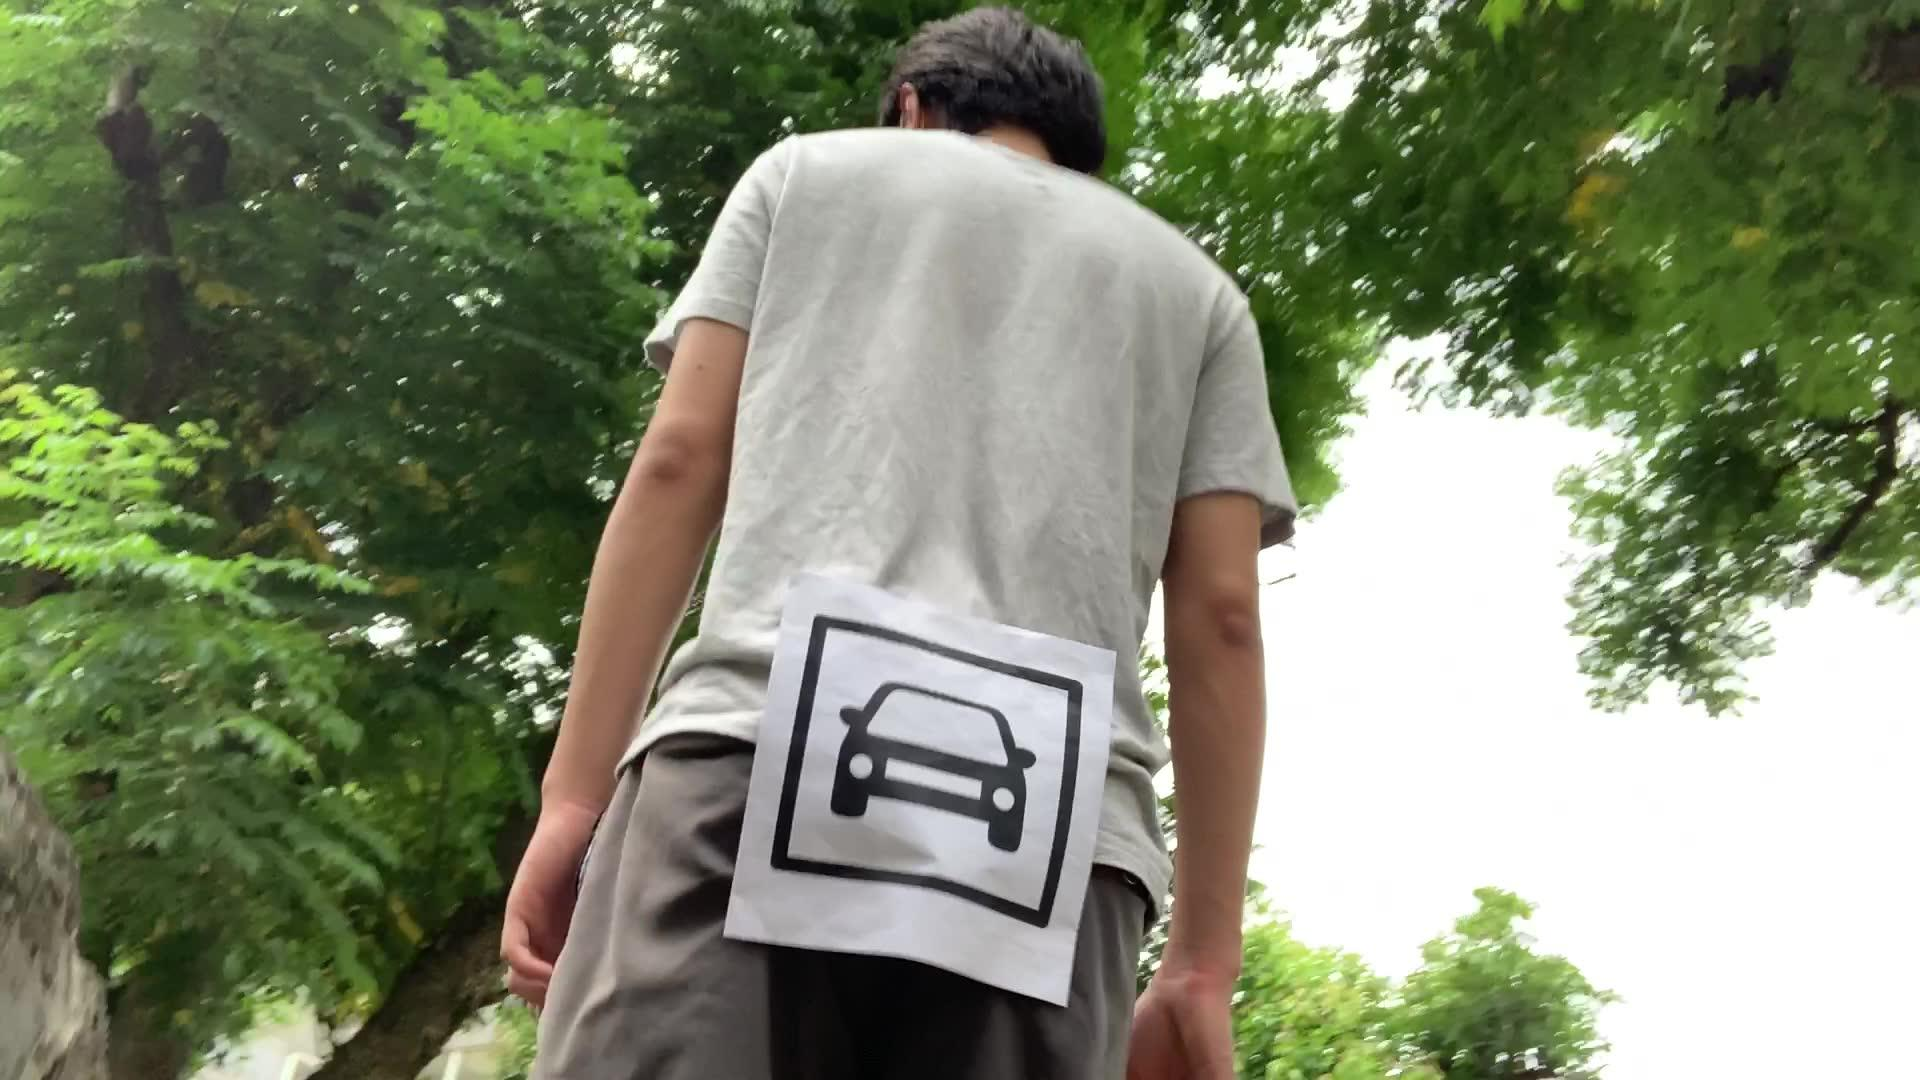car_img: (771, 612, 1085, 928)
